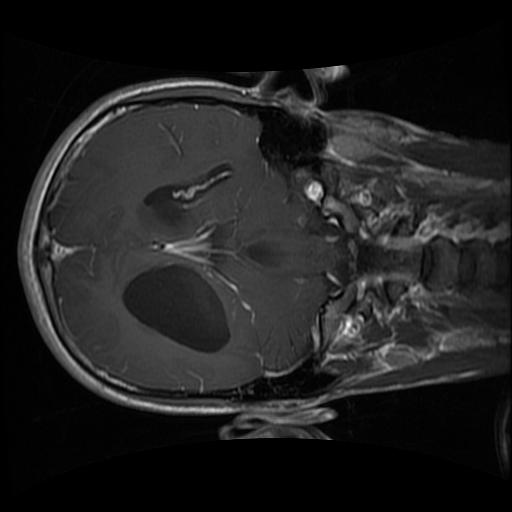glioma: (60, 209, 128, 285)
